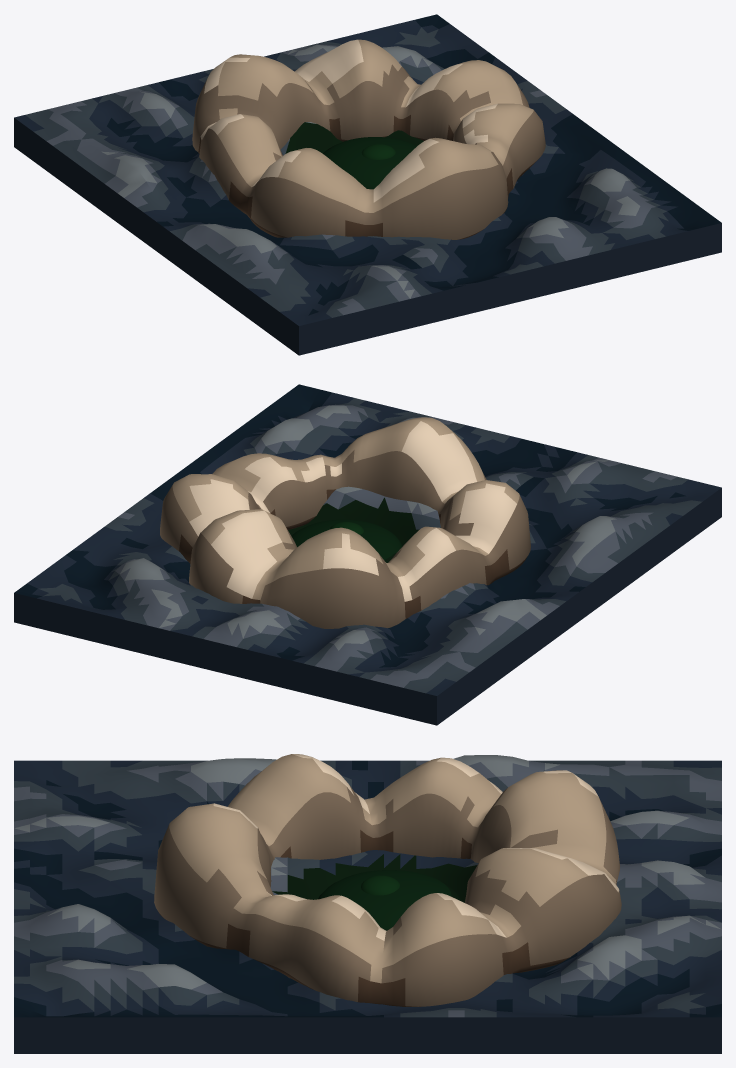
The model's file is gyges_bone_eye.glb.
The picture shows the model from 3 angles, top to bottom: view 1: azimuth 30°, elevation 25°; view 2: azimuth 150°, elevation 25°; view 3: azimuth 270°, elevation 25°; orthographic projection. The views are drawn at different scales.
Visible parts, largest first — view 1: gyges_bone_eye; view 2: gyges_bone_eye; view 3: gyges_bone_eye.
Part boxes in pixels (bbox=[...]): gyges_bone_eye: bbox=[14, 14, 721, 355]; gyges_bone_eye: bbox=[14, 384, 721, 725]; gyges_bone_eye: bbox=[14, 754, 721, 1053].
Bounding box in the file's own units: 24 × 5.47 × 28.
